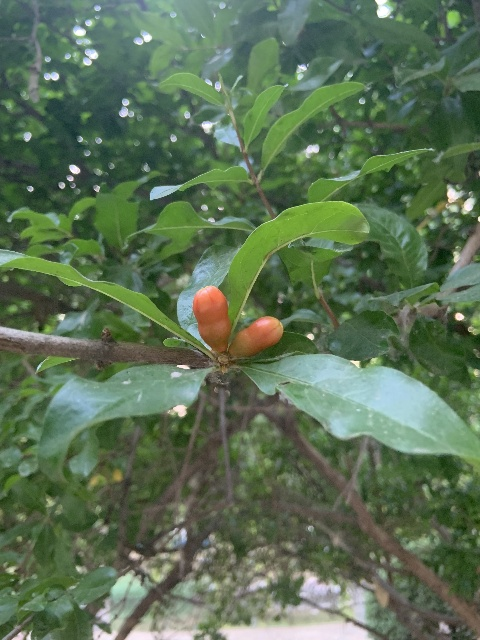bud: (192, 284, 231, 352), (231, 316, 283, 358)
